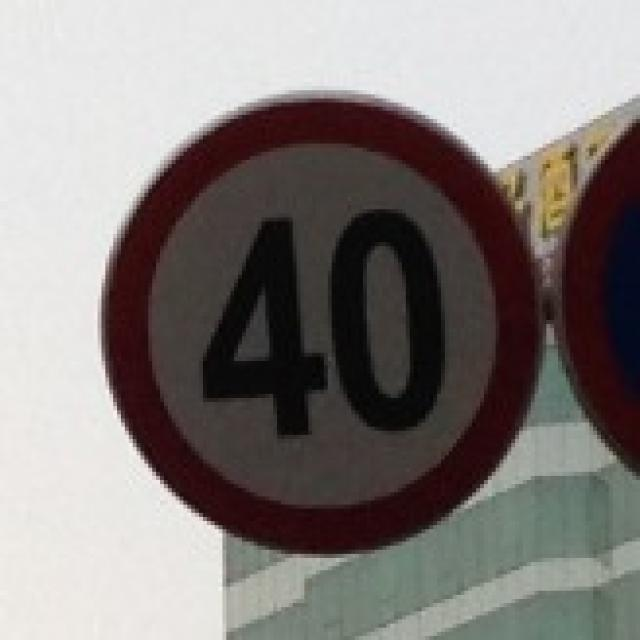Speed Limit -40-: (198, 200, 454, 441)
